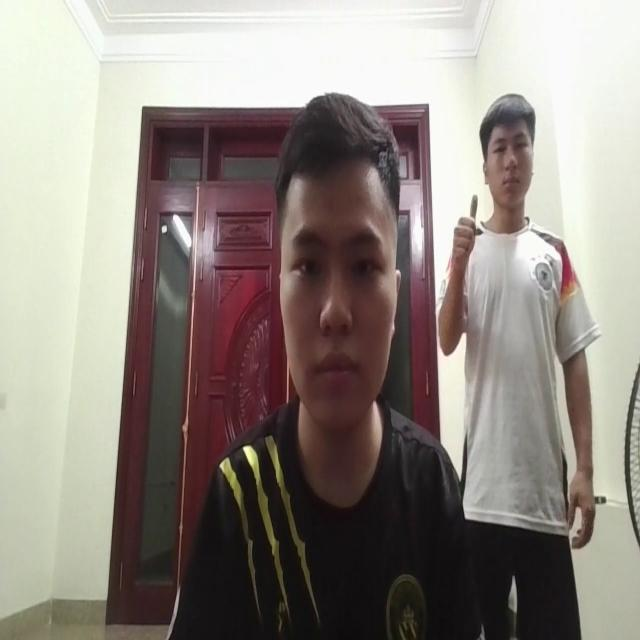extra_person: (435, 85, 607, 630)
student: (211, 90, 466, 640)
